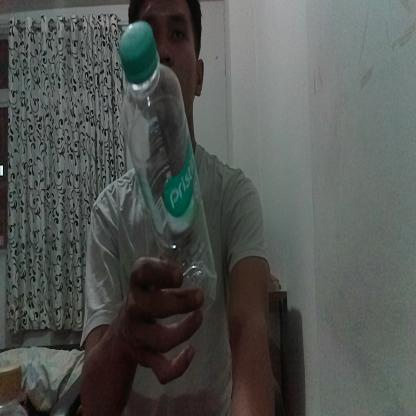plastic_bottles: (119, 22, 217, 319)
